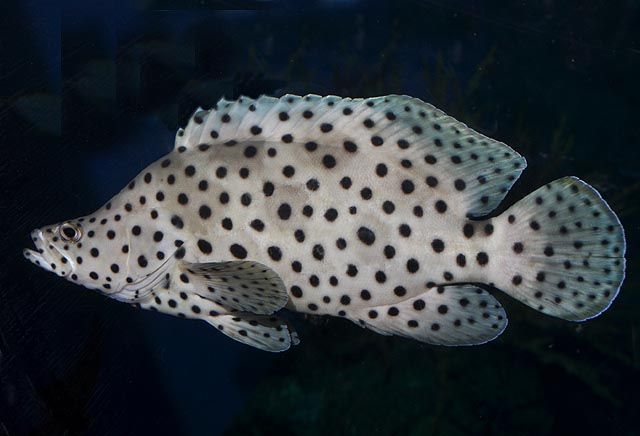fish: (23, 94, 628, 354)
